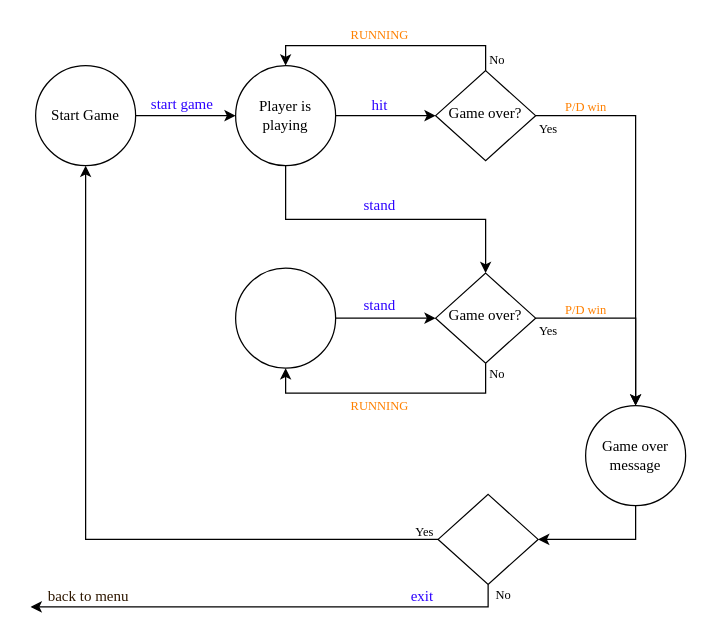
Image size: 708x639. Some labels were removed from this diagram. The shapes that lost their labels are listed below. From the top down, each one's centre as x and y in pixels, then its label:
At [285,317]: "Dealer is playing".
At [487,538]: "Play again?".
